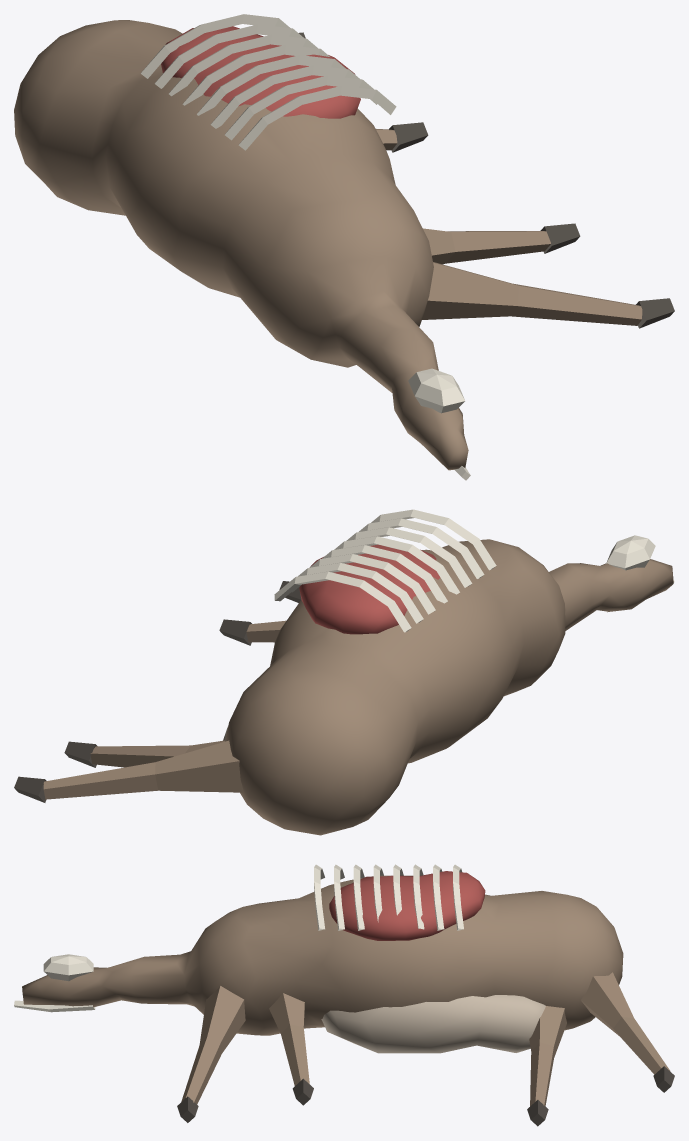
The model's file is carcass.glb.
The picture shows the model from 3 angles, top to bottom: view 1: azimuth 30°, elevation 25°; view 2: azimuth 150°, elevation 25°; view 3: azimuth 270°, elevation 25°; orthographic projection. The views are drawn at different scales.
Visible parts, largest first — view 1: carcass; view 2: carcass; view 3: carcass.
Part boxes in pixels (x1,y1,x2,y2): carcass: (14,14,674,480); carcass: (14,509,674,835); carcass: (14,864,674,1126).
Size of the model in its own units: 0.8785 by 0.5065 by 1.83.
